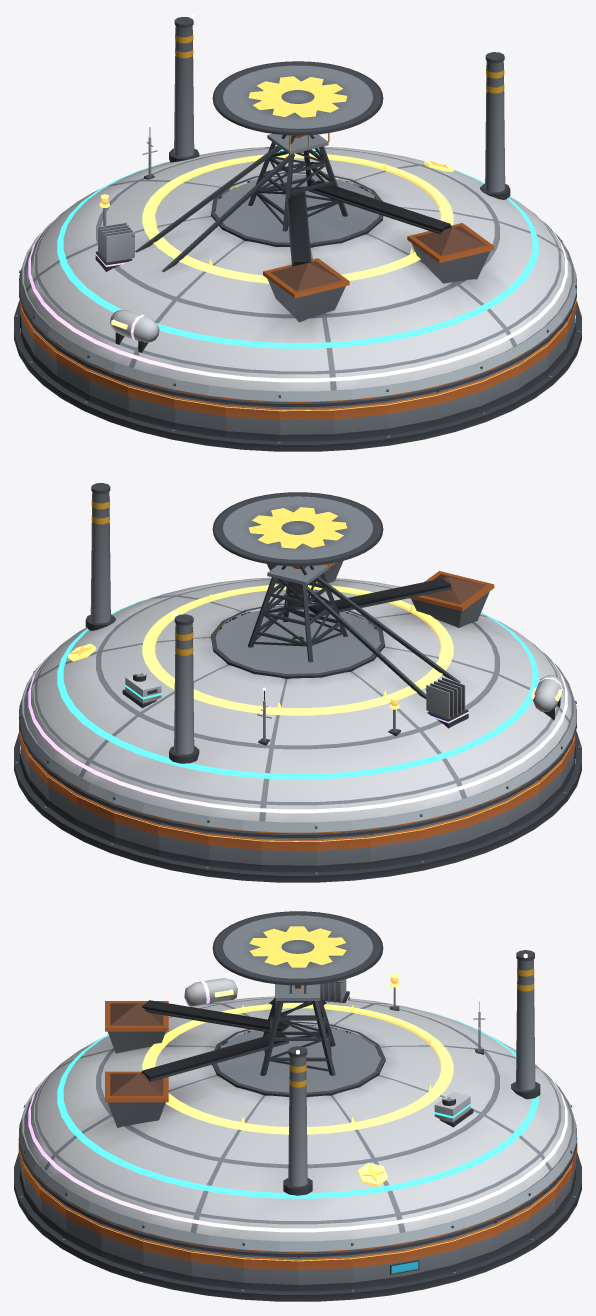
File: mine_l.glb
3 renders of one model, top to bottom at view 1: azimuth 30°, elevation 25°; view 2: azimuth 150°, elevation 25°; view 3: azimuth 270°, elevation 25°, orthographic.
Parts seen in each view (by area): view 1: Roof, Base, L5, L3, L4, Wall_21, Wall_20, Wall_22, Wall_19, Wall_23, Wall_18, Wall_24 (+10 smaller); view 2: Roof, Base, L5, L3, L4, Wall_10, Wall_11, Wall_09, Wall_12, Wall_08, Wall_13, Wall_07 (+11 smaller); view 3: Roof, Base, L5, L3, Wall_00, Wall_31, Wall_30, L4, Wall_01, Wall_29, Wall_02, Wall_28 (+12 smaller).
Part boxes in pixels (x1,y1,x2,y2): Roof: (19,14,576,406); Base: (14,300,581,451); L5: (99,151,453,283); L3: (57,148,538,348); L4: (95,222,159,352); Wall_21: (279,406,334,441); Wall_20: (225,402,279,441); Wall_22: (334,401,387,440); Wall_19: (174,395,225,437); Wall_23: (387,391,437,435); Wall_18: (128,383,174,429); Wall_24: (437,378,481,425); Roof: (19,480,576,837); Base: (14,731,581,882); L5: (67,582,453,736); L3: (57,592,538,779); L4: (425,675,563,728); Wall_10: (261,837,316,872); Wall_11: (316,834,370,872); Wall_09: (208,832,261,871); Wall_12: (370,826,421,868); Wall_08: (158,821,208,866); Wall_13: (421,814,467,860); Wall_07: (113,809,158,856); Roof: (19,911,576,1256); Base: (14,1152,581,1301); L5: (142,973,453,1186); L3: (57,1012,538,1198); Wall_00: (298,1255,352,1291); Wall_31: (243,1255,297,1291); Wall_30: (191,1248,243,1289); L4: (184,978,350,1006); Wall_01: (352,1248,404,1289); Wall_29: (142,1237,191,1282); Wall_02: (404,1237,453,1282); Wall_28: (100,1222,143,1271).
Bounding box in the file's own units: 18.96 × 8.65 × 18.96.
